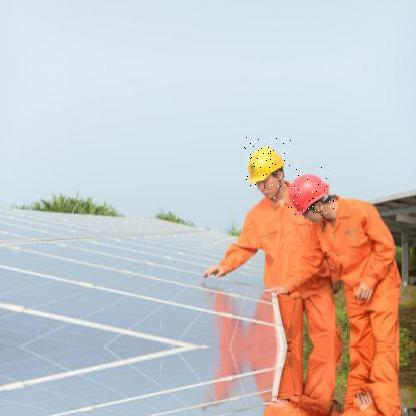safetyhelmet: (243, 138, 294, 190), (287, 167, 335, 217)
